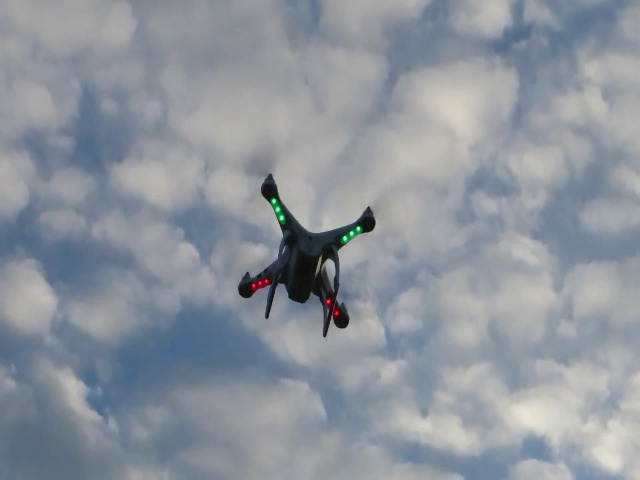drone: (227, 159, 387, 343)
